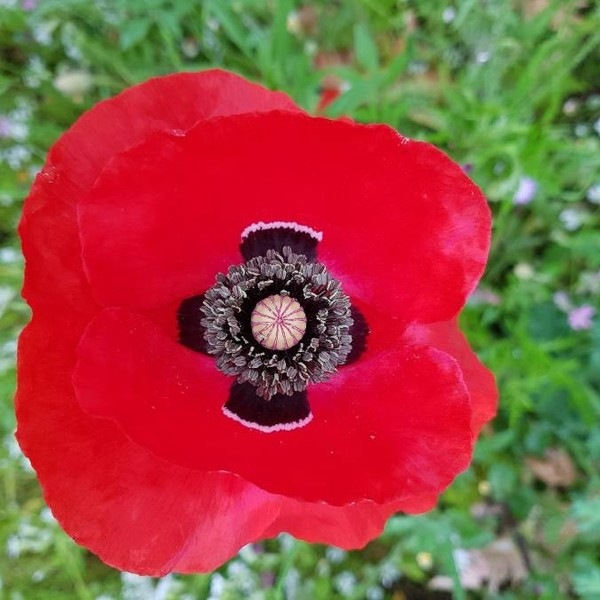obstacle: (13, 59, 500, 588)
